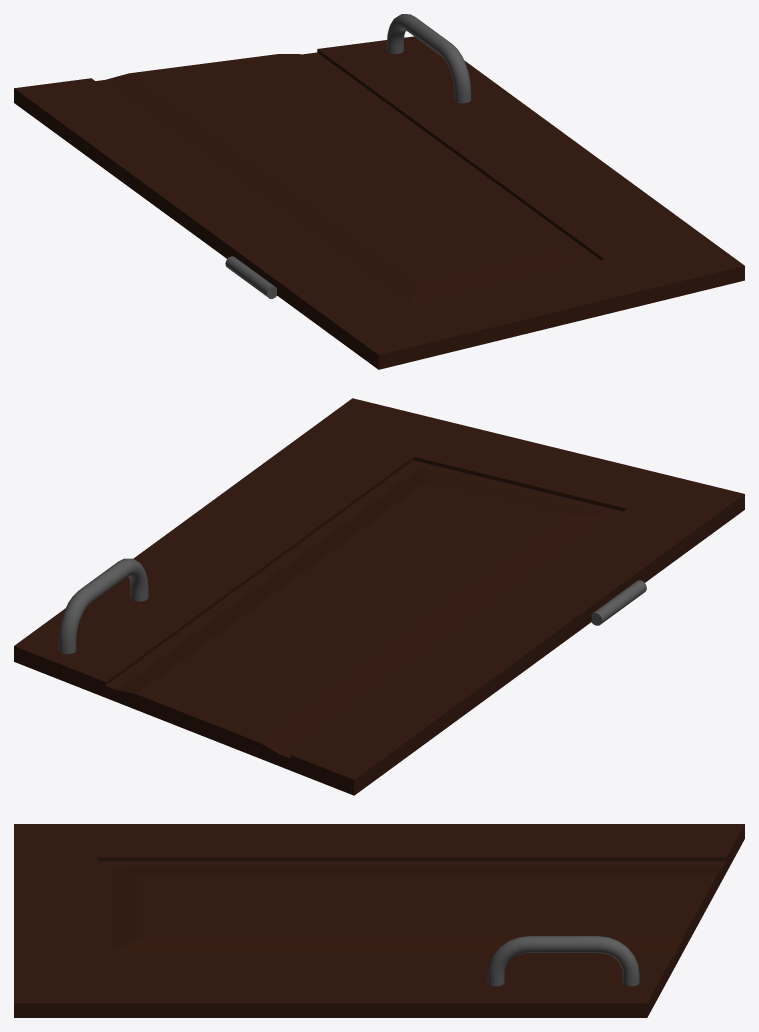
File: Placard_Part_11.fbx
3 renders of one model, top to bottom at view 1: azimuth 30°, elevation 25°; view 2: azimuth 150°, elevation 25°; view 3: azimuth 270°, elevation 25°, orthographic. The views are drawn at different scales.
Parts seen in each view (by area): view 1: Placard_Part_11; view 2: Placard_Part_11; view 3: Placard_Part_11.
Boxes of the visible parts, x1,y1,x2,y2 form: Placard_Part_11: (14,14,744,369); Placard_Part_11: (14,398,744,795); Placard_Part_11: (14,824,744,1017).
Bounding box in the file's own units: 73.05 × 11.67 × 123.
